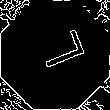L_W: (26, 31, 84, 79)
